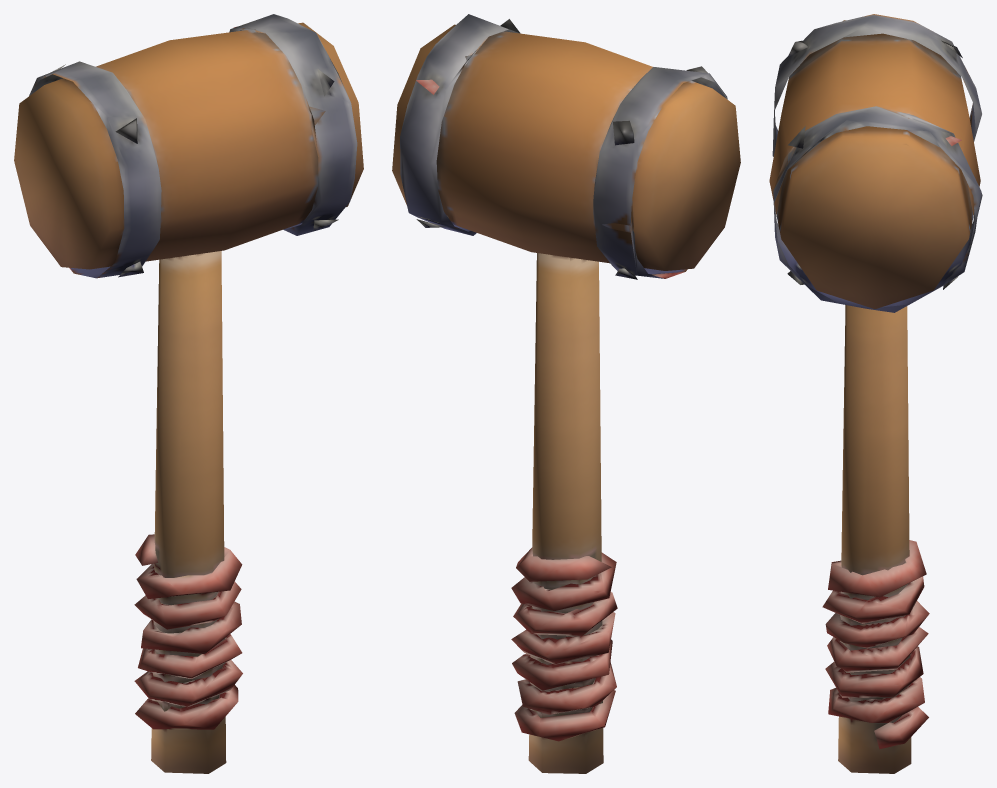
The model's file is hammer.glb.
3 views of the same model, side by side, from view 1: azimuth 30°, elevation 25°; view 2: azimuth 150°, elevation 25°; view 3: azimuth 270°, elevation 25° (orthographic). The views are drawn at different scales.
Parts seen in each view (by area): view 1: hammer; view 2: hammer; view 3: hammer.
Boxes of the visible parts, <box> form: hammer: <box>14,14,363,773</box>; hammer: <box>392,14,740,773</box>; hammer: <box>769,14,982,773</box>.
Bounding box in the file's own units: 0.1692 × 0.4415 × 0.1226.
Materials: 1 (1 with a texture image).
